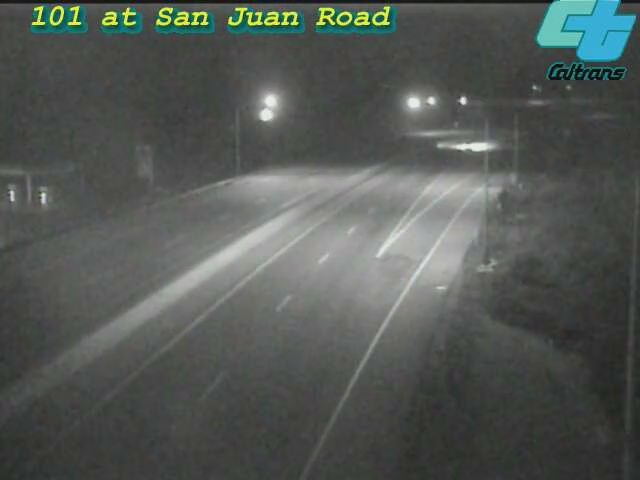vehicle: (442, 121, 492, 171)
